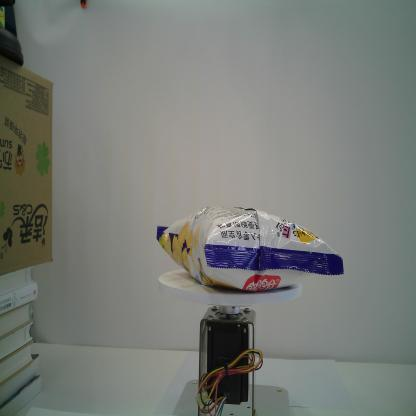Puffed Food: (156, 203, 346, 295)
